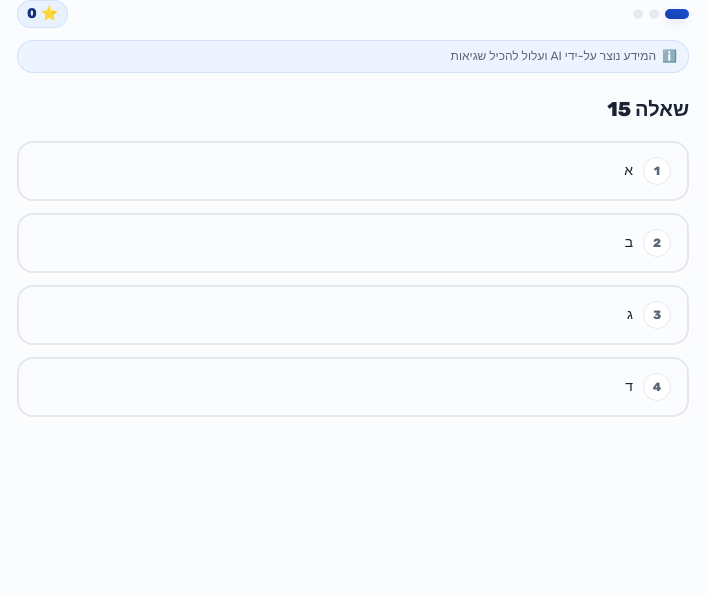
Test: LessonPlayer › שתי תשובות נכונות ברצף → streak=2 ב-header
The image size is (707, 596).
Click the radio button with test id "mcq-option-0". click: click(353, 171)
box: [17,141,689,201]
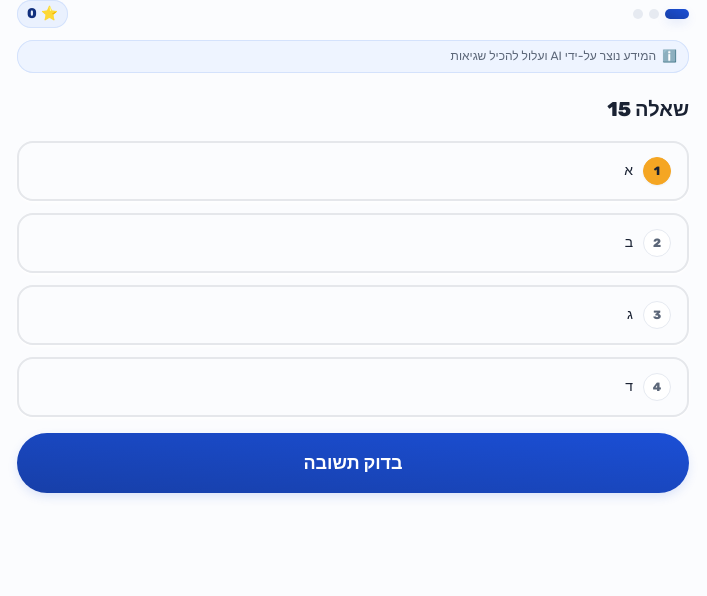
Click the button with test id "check-answer-button". click: click(353, 463)
box: [17,433,689,493]
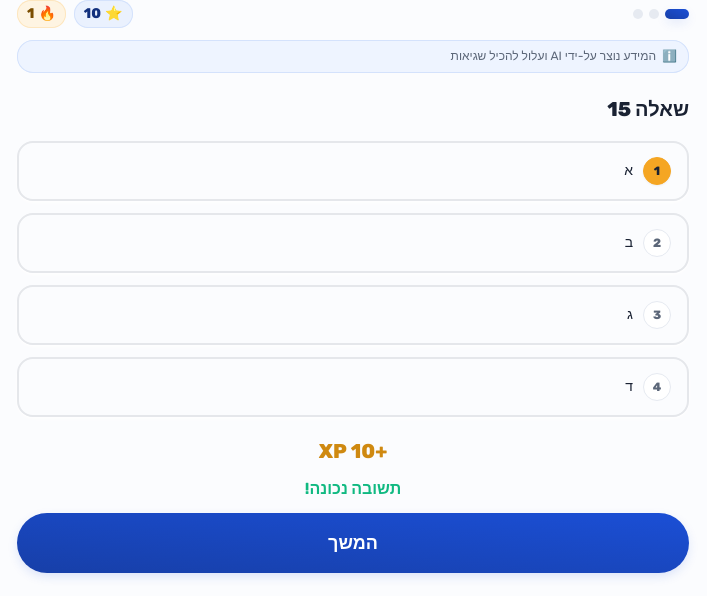
Click the button with test id "continue-button". click: click(353, 543)
box: [17,513,689,573]
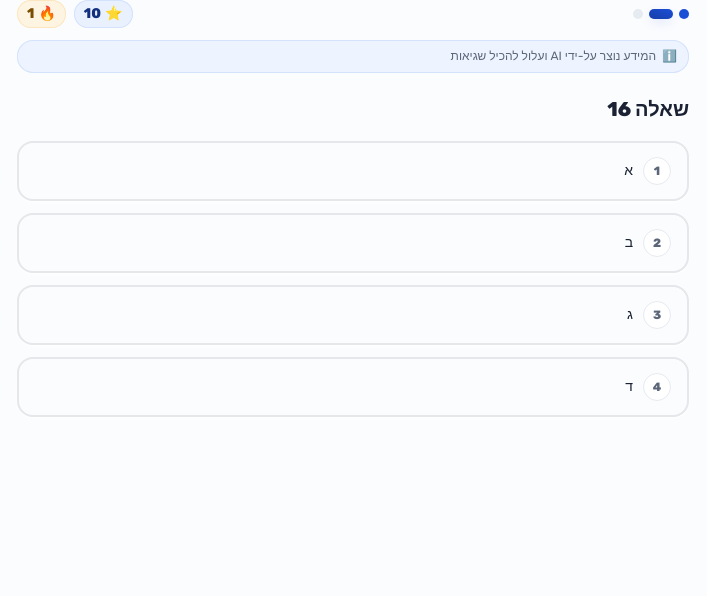
Click the radio button with test id "mcq-option-0". click: click(353, 171)
box: [17,141,689,201]
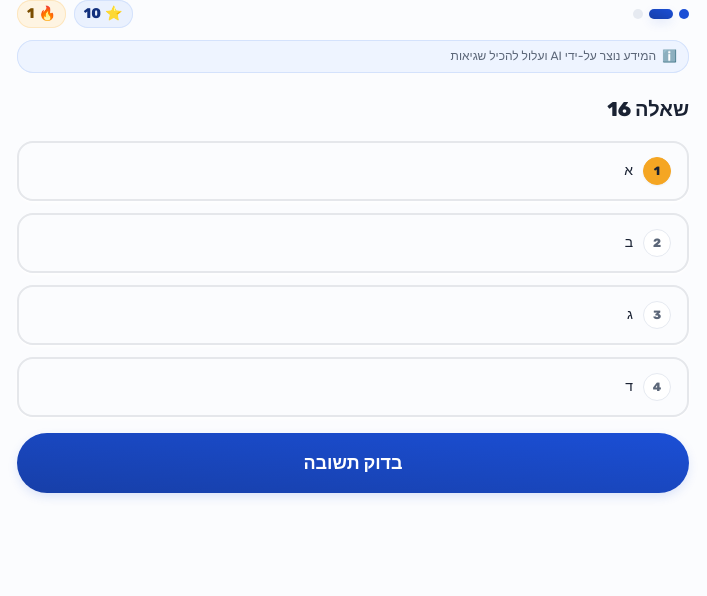
Click the button with test id "check-answer-button". click: click(353, 463)
box: [17,433,689,493]
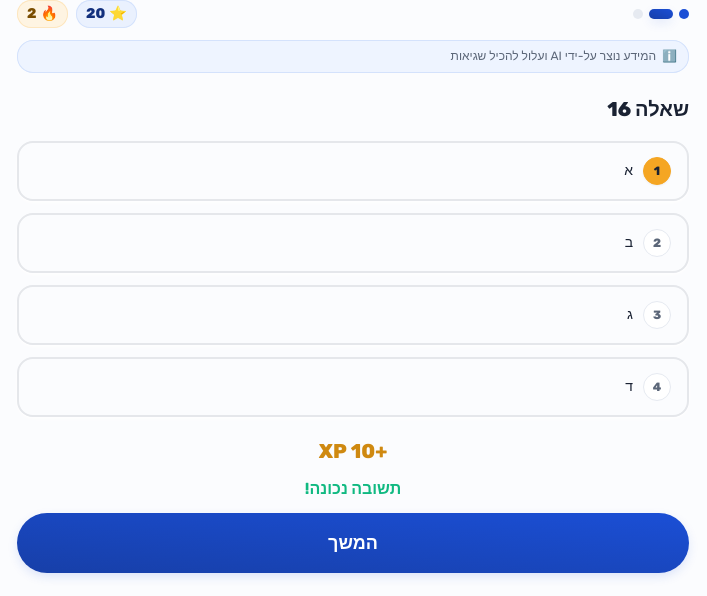
Expected: the element with test id "streak-badge" shows "2", [27,5,36,22]
